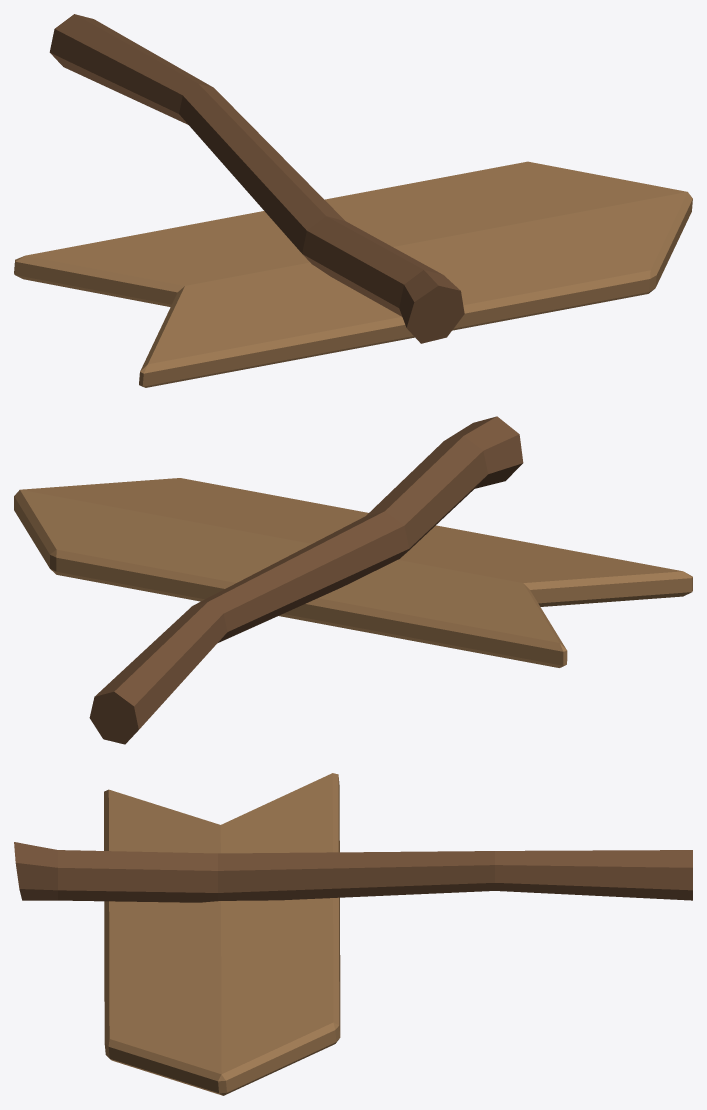
The model's file is Panel_04.fbx.
3 renders of one model, top to bottom at view 1: azimuth 30°, elevation 25°; view 2: azimuth 150°, elevation 25°; view 3: azimuth 270°, elevation 25°, orthographic. The views are drawn at different scales.
Parts seen in each view (by area): view 1: Poteau 1*1fleche droite LOW Petit.002; view 2: Poteau 1*1fleche droite LOW Petit.002; view 3: Poteau 1*1fleche droite LOW Petit.002.
Boxes of the visible parts, x1,y1,x2,y2 form: Poteau 1*1fleche droite LOW Petit.002: [14, 14, 692, 387]; Poteau 1*1fleche droite LOW Petit.002: [14, 416, 692, 744]; Poteau 1*1fleche droite LOW Petit.002: [14, 773, 692, 1095].
Size of the model in its own units: 75.66 by 13.42 by 79.74.
